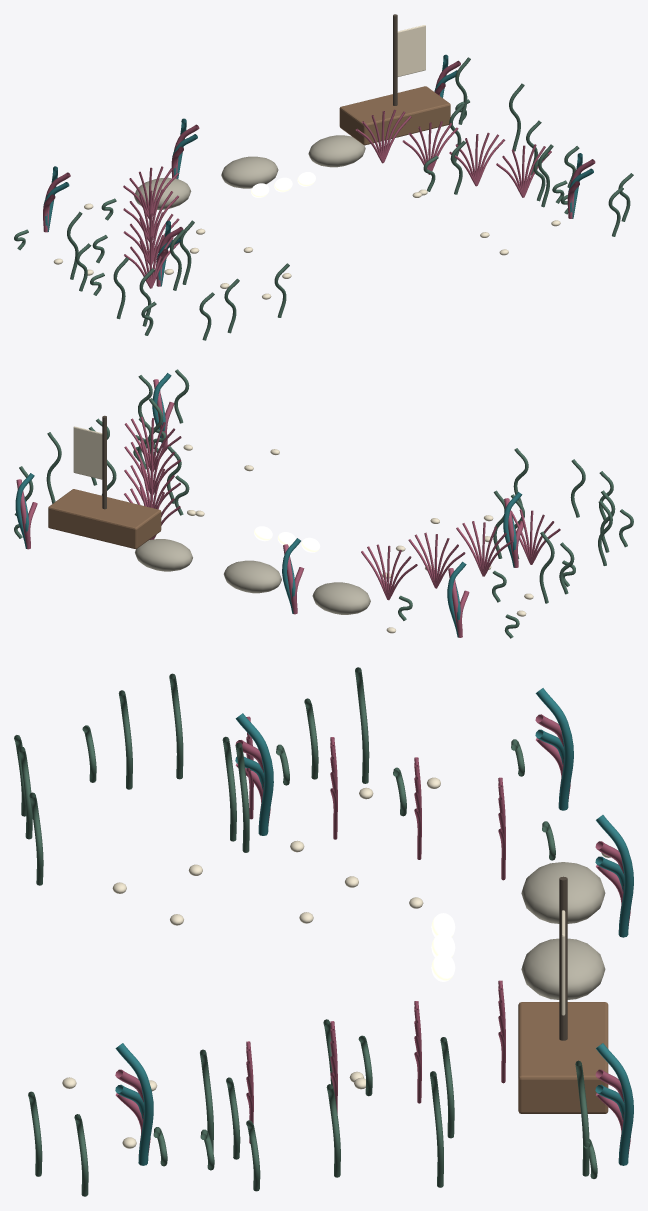
File: mer_reef-DN6p62qz.glb
3 renders of one model, top to bottom at view 1: azimuth 30°, elevation 25°; view 2: azimuth 150°, elevation 25°; view 3: azimuth 270°, elevation 25°, orthographic. The views are drawn at different scales.
Visible parts, largest first — view 1: world_rose, world_leafdark, world_wood, world_stone, world_cream, world_Story primary, FX_beacon_Pearl light; view 2: world_rose, world_leafdark, world_wood, world_stone, world_Story primary, world_cream, FX_beacon_Pearl light, world_darkwood; view 3: world_leafdark, world_wood, world_Story primary, world_stone, world_rose, world_cream, FX_beacon_Pearl light, world_darkwood.
Boxes of the visible parts, x1,y1,x2,y2 form: world_rose: (43,60,595,288); world_leafdark: (14,57,633,340); world_wood: (339,86,450,145); world_stone: (134,135,365,209); world_cream: (53,25,560,299); world_Story primary: (43,54,593,286); FX_beacon_Pearl light: (251,172,315,197); world_rose: (16,379,560,637); world_leafdark: (14,369,633,638); world_wood: (48,489,161,549); world_stone: (135,539,370,614); world_Story primary: (15,373,522,637); world_cream: (73,426,533,633); FX_beacon_Pearl light: (254,526,320,552); world_darkwood: (102,415,106,509); world_leafdark: (14,667,597,1196); world_wood: (518,1002,608,1113); world_Story primary: (115,688,633,1165); world_stone: (521,862,605,999); world_rose: (115,714,630,1158); world_cream: (62,777,610,1148); FX_beacon_Pearl light: (431,913,455,981); world_darkwood: (559,876,567,1040).
Size of what is drawn, in the model's own units: 17.08 by 4.4 by 10.33.
